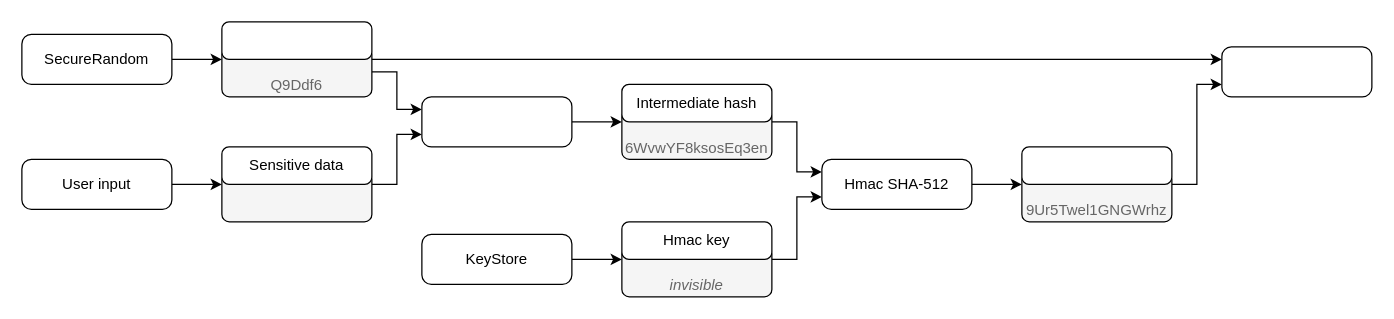
Image size: 1394x319. Some labels were removed from this diagram. The box of each missing label's shape, as (x1, y1, x2, y2) in pixels:
Final hash: (1021, 146, 1172, 184)
MyPasword: (221, 171, 372, 222)
PBKDF2: (421, 96, 572, 147)
Random salt: (221, 21, 372, 59)
SharedPreferences: (1221, 46, 1372, 97)
